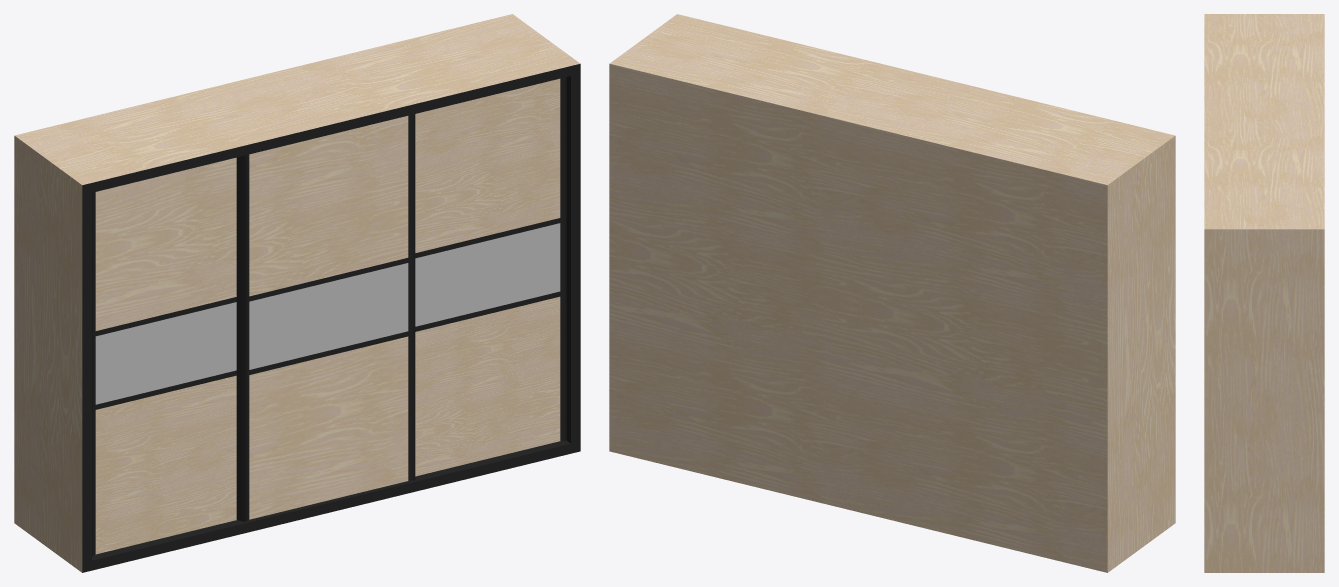
Rendered from cupboard_037.fbx.
3 renders of one model, left to right at view 1: azimuth 30°, elevation 25°; view 2: azimuth 150°, elevation 25°; view 3: azimuth 270°, elevation 25°, orthographic. The views are drawn at different scales.
Parts seen in each view (by area): view 1: cupboard_037; view 2: cupboard_037; view 3: cupboard_037.
Part boxes in pixels (box(x1,y1,x2,y2)): cupboard_037: box(14, 14, 580, 572); cupboard_037: box(609, 14, 1175, 572); cupboard_037: box(1204, 14, 1324, 572).
Size of the model in its own units: 378 by 89.22 by 281.
